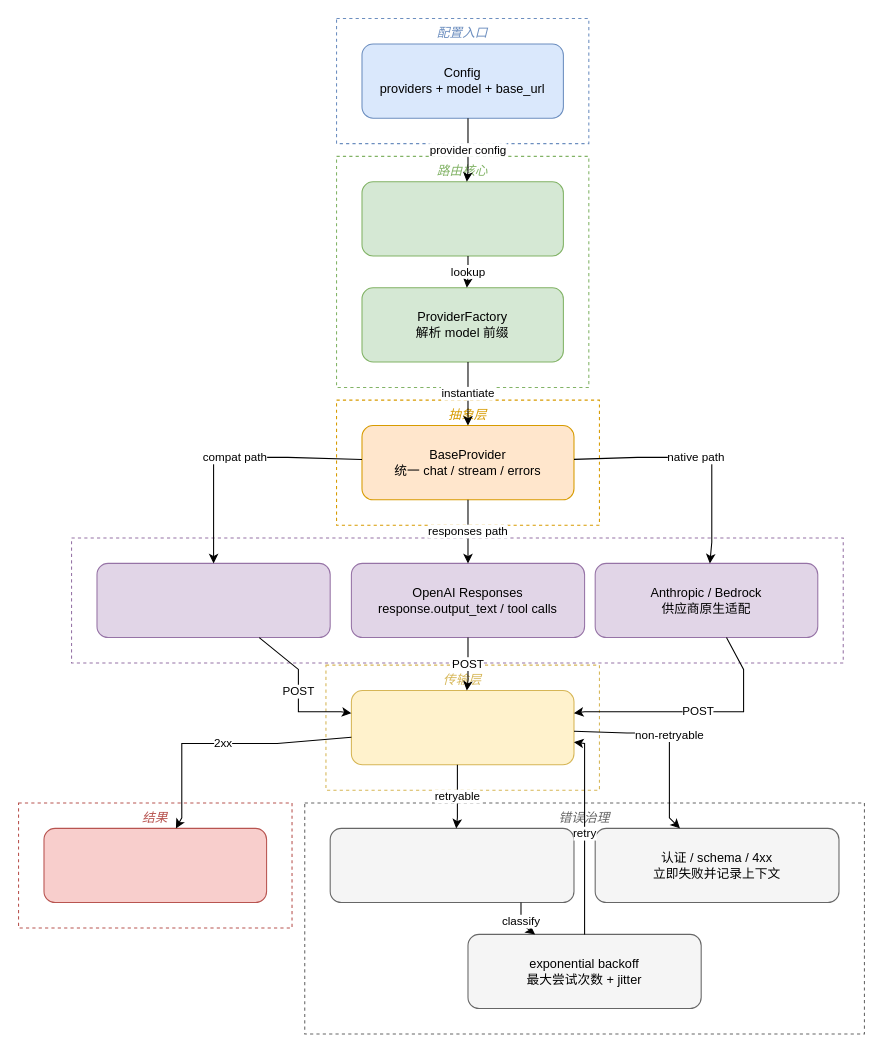
Image size: 883x1053. Some labels were removed from this diagram. Each missing label, with the box of its shape:
429 / 500-599 / timeout retryable: (329, 827, 574, 903)
HTTPS endpoint Chat Completions / Responses: (350, 690, 574, 765)
OpenAICompatProvider OpenAI SDK + 自定义 URL: (96, 562, 330, 638)
ProviderRegistry 名称与能力登记: (361, 181, 563, 256)
实现层: (70, 537, 843, 663)
流式事件 text delta / tool call / usage: (43, 827, 267, 903)
